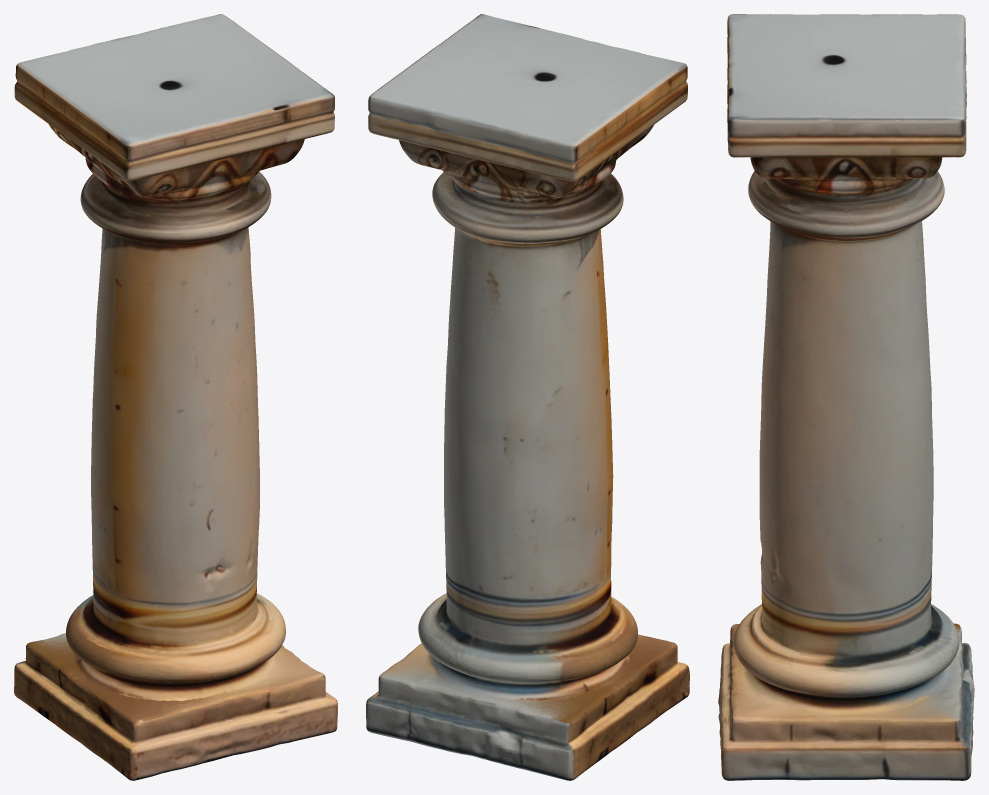
File: weathered-monolith-pillar-generated-2026-04-18t22-01-36-007z-texture-wrap-2026-04-18T23-14-30-195Z.high.glb
The picture shows the model from 3 angles, left to right: view 1: azimuth 30°, elevation 25°; view 2: azimuth 150°, elevation 25°; view 3: azimuth 270°, elevation 25°; orthographic projection. The views are drawn at different scales.
Parts seen in each view (by area): view 1: temp_mesh.ply; view 2: temp_mesh.ply; view 3: temp_mesh.ply.
Part boxes in pixels (left/top/right/bottom): temp_mesh.ply: left=14, top=14, right=337, bottom=780; temp_mesh.ply: left=366, top=14, right=689, bottom=780; temp_mesh.ply: left=718, top=14, right=974, bottom=780.
Size of the model in its own units: 0.6844 by 1.97 by 0.6911.
Materials: 1 (1 with a texture image).
